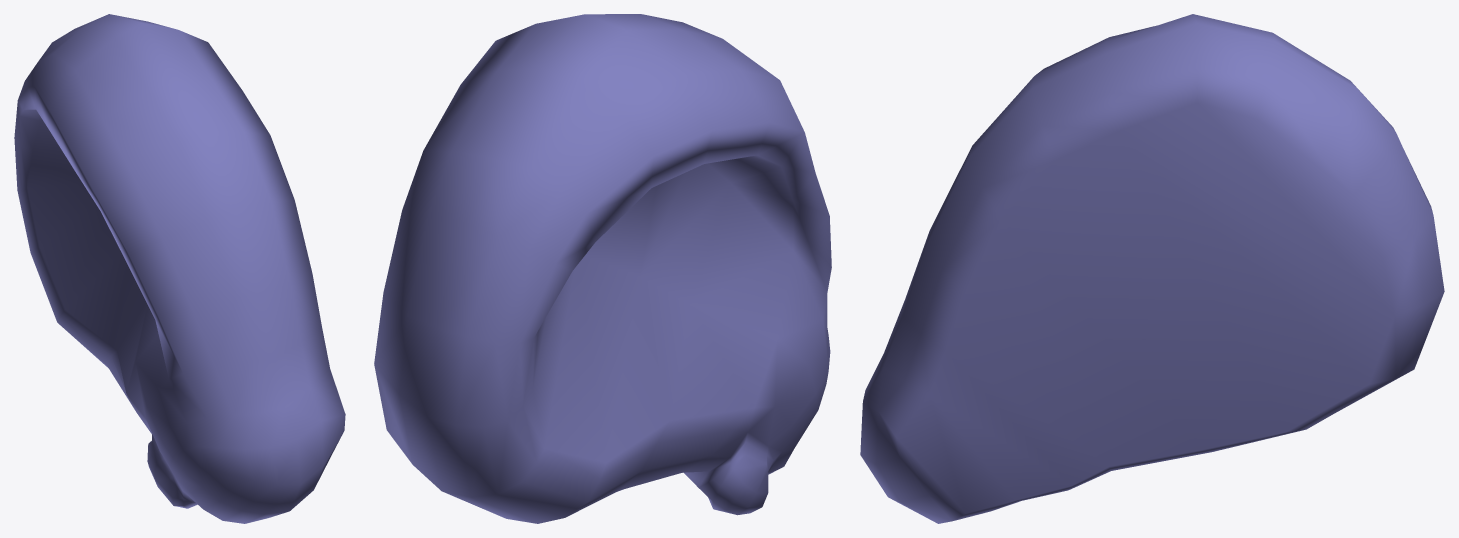
The model's file is Thalamus_Part_B_Trans.gltf.
3 views of the same model, side by side, from view 1: azimuth 30°, elevation 25°; view 2: azimuth 150°, elevation 25°; view 3: azimuth 270°, elevation 25° (orthographic). The views are drawn at different scales.
Parts seen in each view (by area): view 1: Thalamus_Part_B; view 2: Thalamus_Part_B; view 3: Thalamus_Part_B.
Boxes of the visible parts, bbox=[...] form: Thalamus_Part_B: bbox=[14, 14, 345, 523]; Thalamus_Part_B: bbox=[374, 14, 831, 523]; Thalamus_Part_B: bbox=[860, 14, 1444, 523].
Size of the model in its own units: 2.12 by 4.68 by 5.04.
